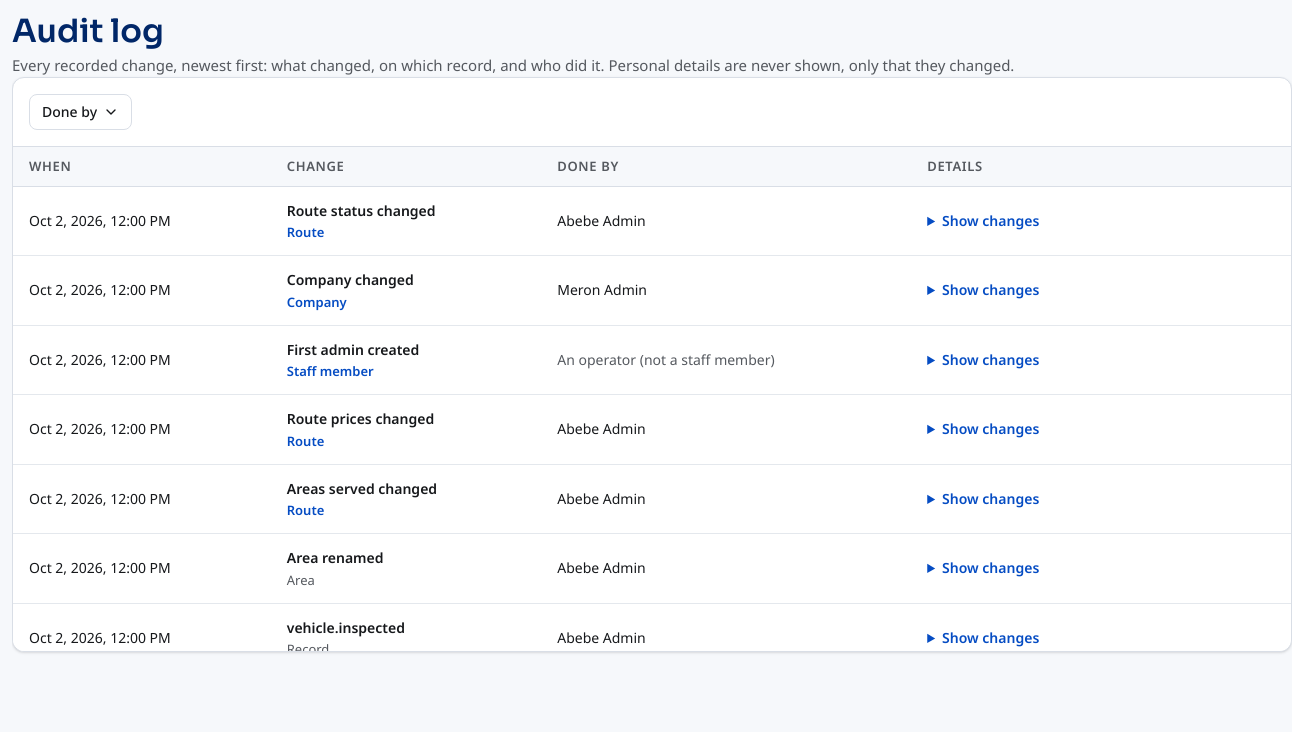
AuditLogScreen › shows the changes as before and after, hidden personal values as hidden
The width and height of the screenshot is (1292, 732).
Check: the text "Company changed" is shown, box [287,270,414,289]
What coordinates should you click on to do the following:
click the heading "Show changes" in the row of "Company changed"
I would click on:
 (983, 291)
Its box is [927,280,1039,301].
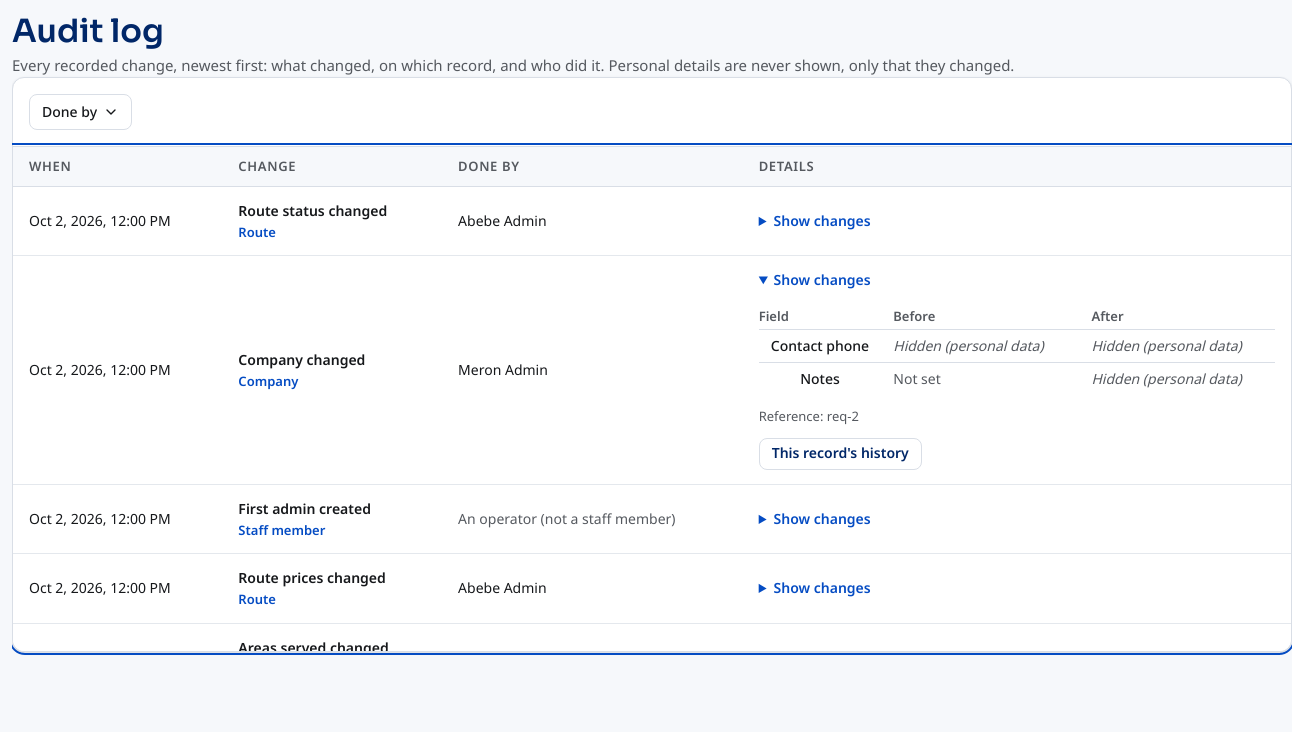
Check: the table named "Changes" does not show "[redacted]", box [759,307,789,325]
Check: the text "Hidden (personal data)" is shown 2 times, box [893,336,1044,355]; [1091,336,1242,355]
Check: the text "Reference: req-2" is shown, box [759,408,859,426]
What coordinates should you click on to do the following:
click the heading "Show changes" in the row of "Route prices changed"
I would click on:
 (815, 588)
Its box is [759,578,871,598].
(page scrolled)
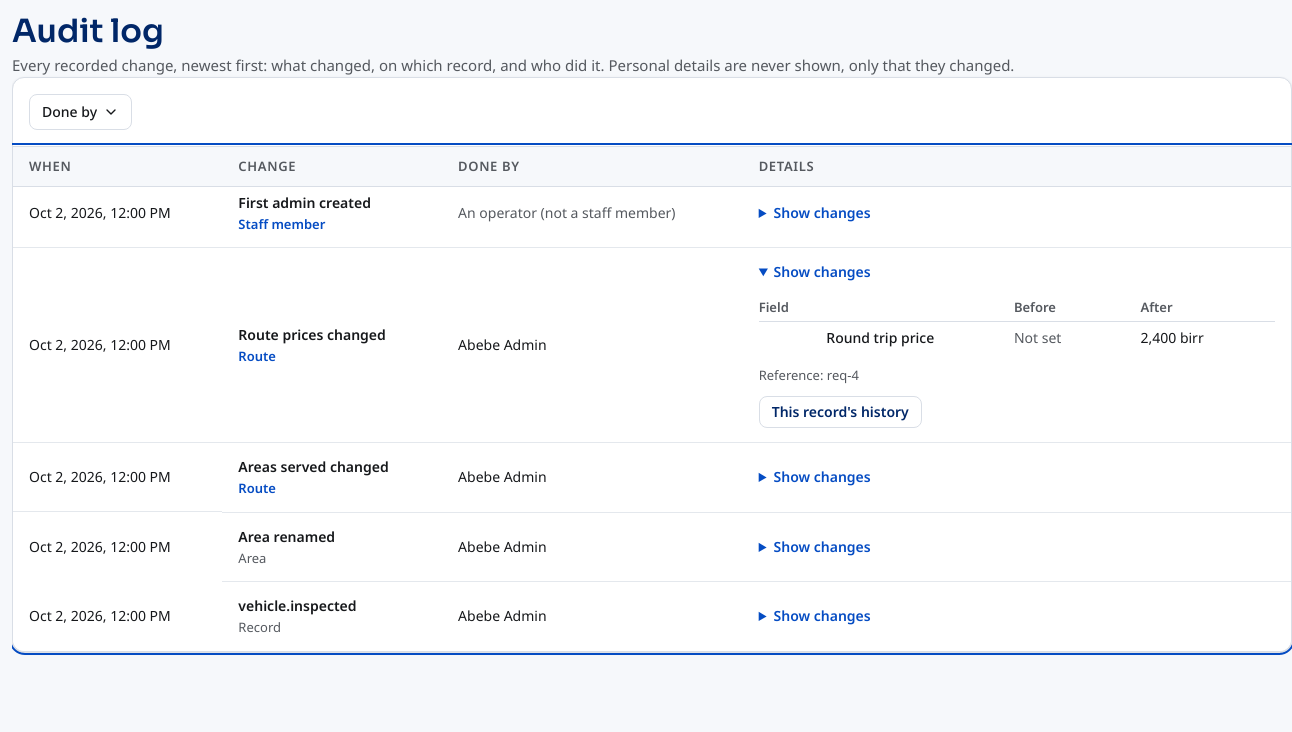
Check: the text "Route prices changed" shows "2,400 birr", box [1140,328,1204,347]
What coordinates should you click on to do the following:
click the heading "Show changes" in the row of "Areas served changed"
I would click on:
 (815, 477)
Its box is [759,467,871,488].
(page scrolled)
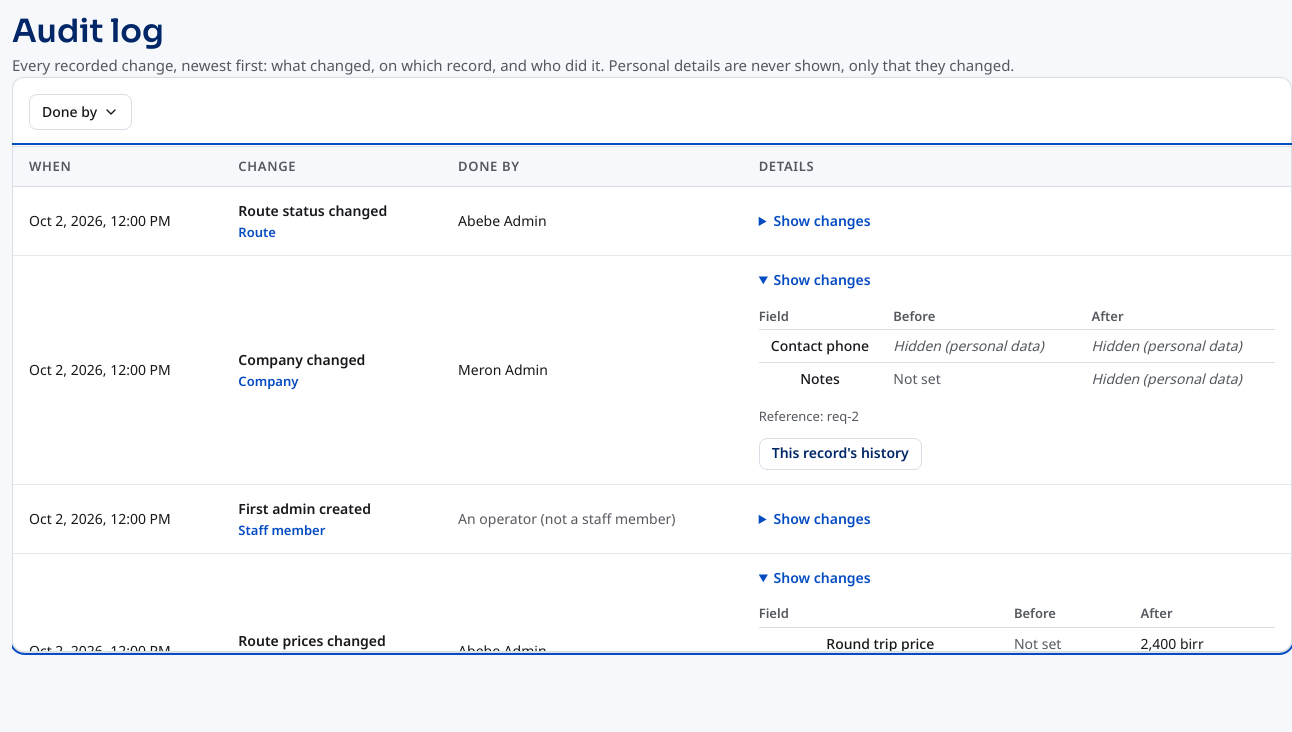
What coordinates should you click on to do the following:
click the heading "Show changes" in the row of "Route status changed"
I would click on:
 (815, 221)
Its box is [759,211,871,231].
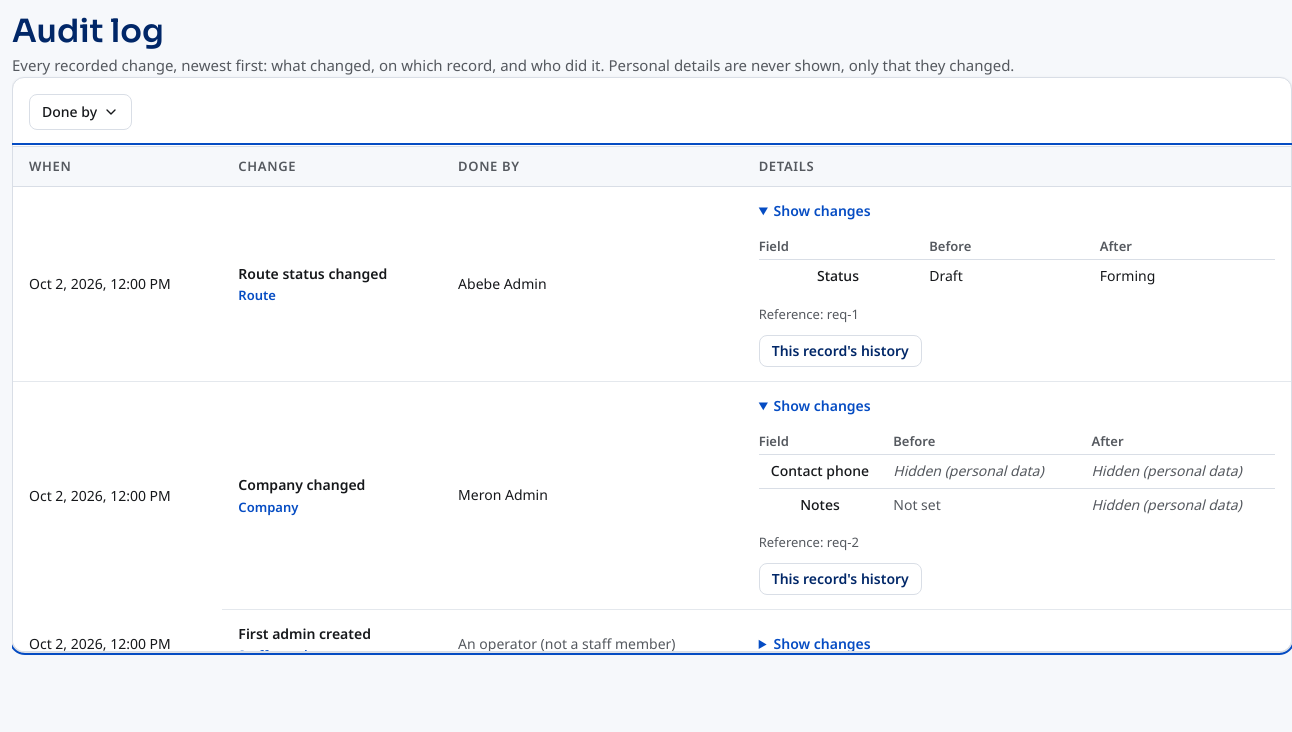
What coordinates should you click on to do the following:
click the heading "Show changes" in the row of "First admin created"
I would click on:
 (815, 644)
Its box is [759,634,871,654].
(page scrolled)
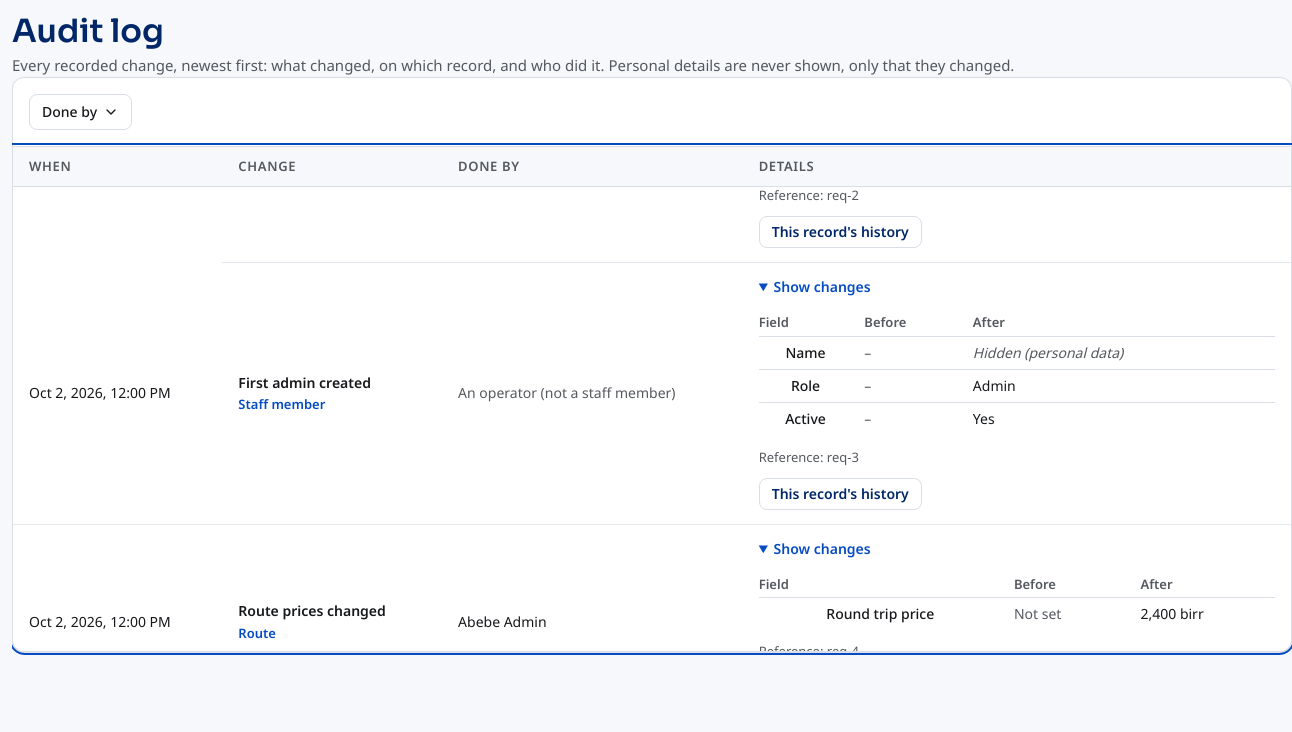
Check: the text "First admin created" is shown, box [973,376,1016,395]
Check: the text "Yes" is shown, box [973,409,995,428]
